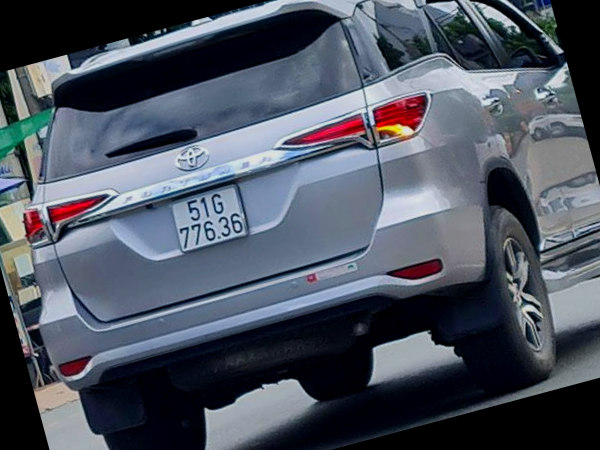lisence: (170, 185, 254, 253)
